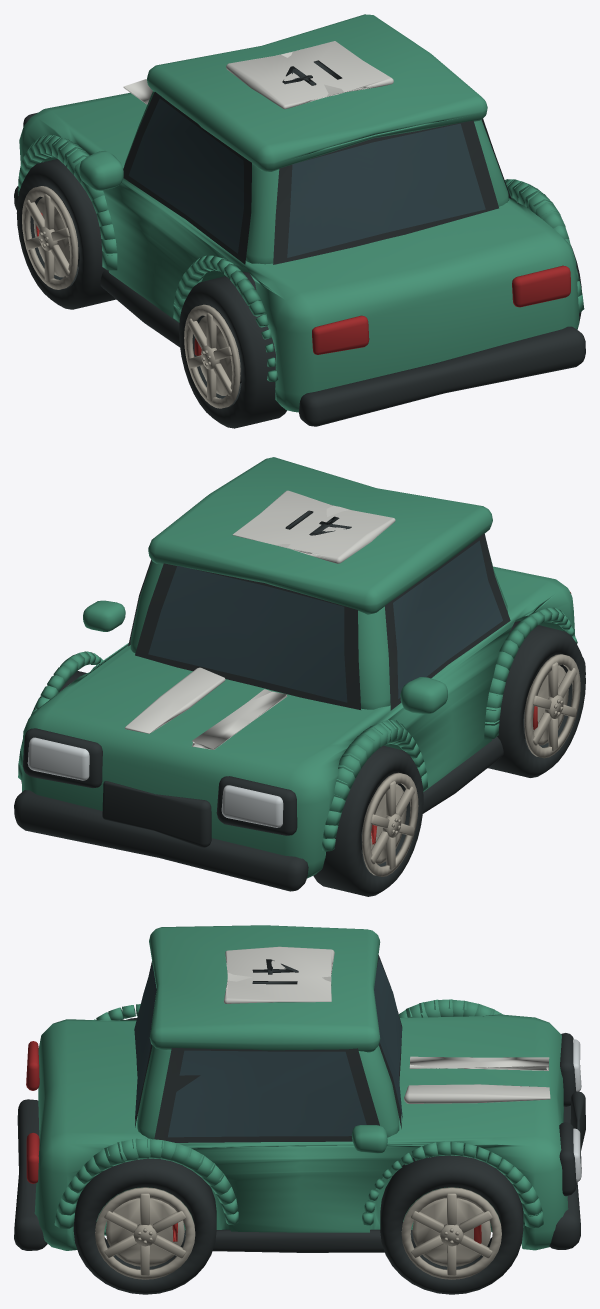
Rendered from car_balanced.glb.
The picture shows the model from 3 angles, top to bottom: view 1: azimuth 30°, elevation 25°; view 2: azimuth 150°, elevation 25°; view 3: azimuth 270°, elevation 25°; orthographic projection. The views are drawn at different scales.
Visible parts, largest first — view 1: Body.003, WheelMesh.014, WheelMesh.012; view 2: Body.003, WheelMesh.012, WheelMesh.014; view 3: Body.003, WheelMesh.013, WheelMesh.015.
Boxes of the visible parts, box(x1,y1,x2,y2) form: Body.003: box(14, 14, 585, 426); WheelMesh.014: box(179, 271, 286, 428); WheelMesh.012: box(16, 159, 115, 309); Body.003: box(14, 457, 585, 891); WheelMesh.012: box(313, 745, 423, 896); WheelMesh.014: box(488, 621, 585, 777); Body.003: box(14, 925, 585, 1252); WheelMesh.013: box(380, 1155, 523, 1294); WheelMesh.015: box(73, 1158, 216, 1294).
Size of the model in its own units: 2.64 by 1.88 by 3.92.
